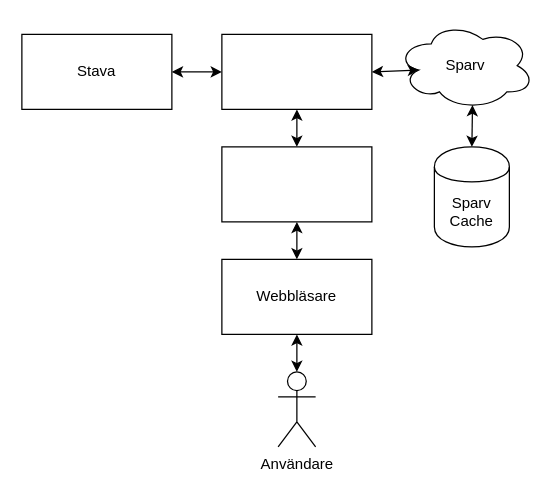
The diagram is 556 pixels wide and 495 high, and some of its shapes have lost their labels. The shapes that lost their labels are listed below. From the top down, each one's centre as x and y in pixels, then its label:
At (296,71): "API".
At (296,184): "Webbapplikation".
